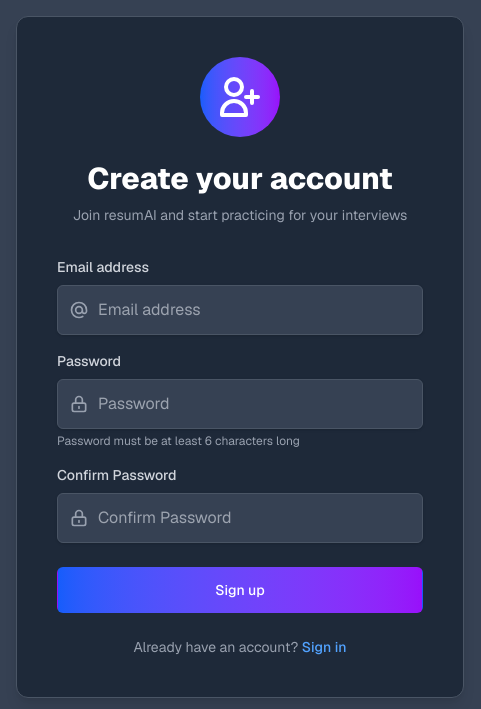
Test: Register Component › shows loading state during registration
Type "test@example.com" into the field labelled "Email address" at (240, 310), box [57,285,423,335]
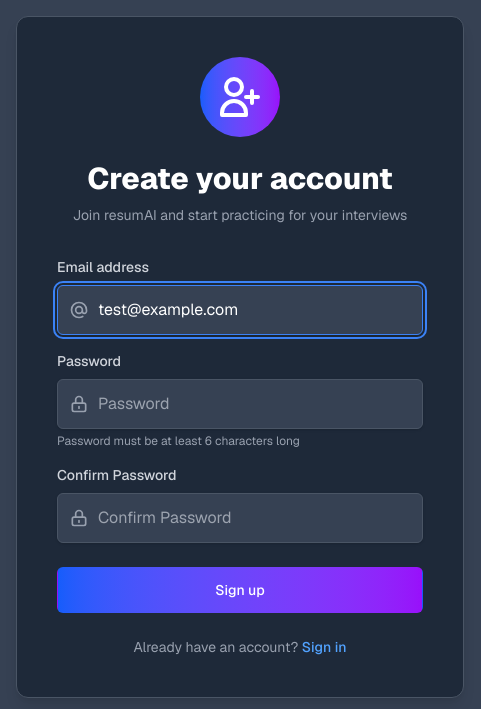
Type "password123" into the password field labelled "Password" at (240, 404), box [57,379,423,429]
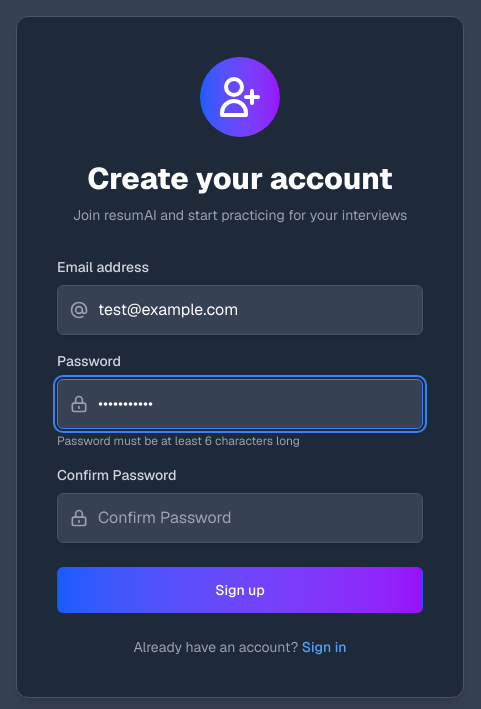
Type "password123" into the password field labelled "Confirm Password" at (240, 518), box [57,493,423,543]
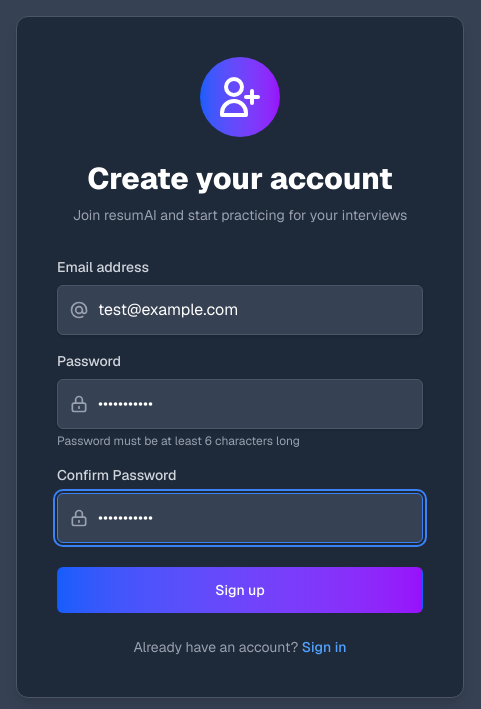
Click the button "Sign up" at (240, 590), box [57,567,423,613]
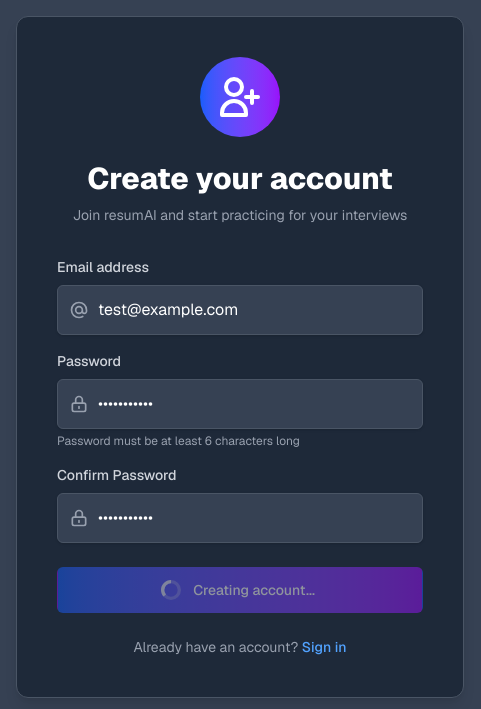
Result: the text "Creating account..." is shown at [165,580,315,600]
Result: the button named "sign up" is disabled at [57,567,423,613]
